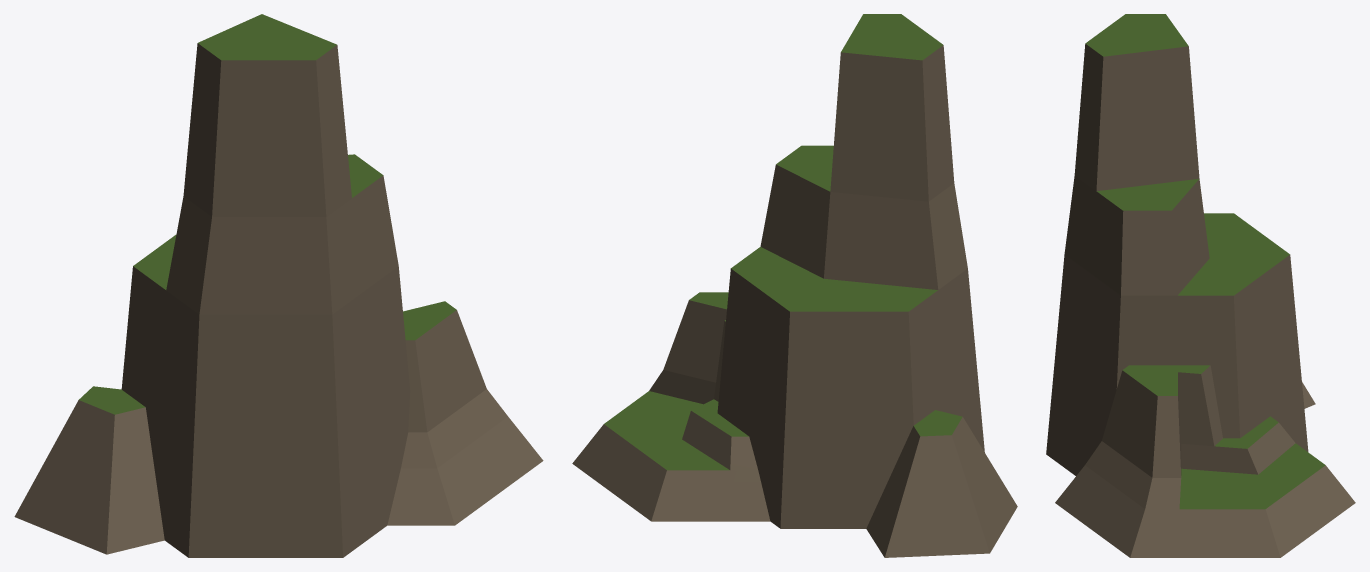
File: rock_tall_a.glb
3 renders of one model, left to right at view 1: azimuth 30°, elevation 25°; view 2: azimuth 150°, elevation 25°; view 3: azimuth 270°, elevation 25°, orthographic. The views are drawn at different scales.
Visible parts, largest first — view 1: rock_tallA; view 2: rock_tallA; view 3: rock_tallA.
Part boxes in pixels (x1=…): rock_tallA: x1=14, y1=14, x2=543, y2=557; rock_tallA: x1=572, y1=14, x2=1017, y2=557; rock_tallA: x1=1046, y1=14, x2=1355, y2=557.
Bounding box in the file's own units: 0.9831 × 0.9959 × 0.6832.
